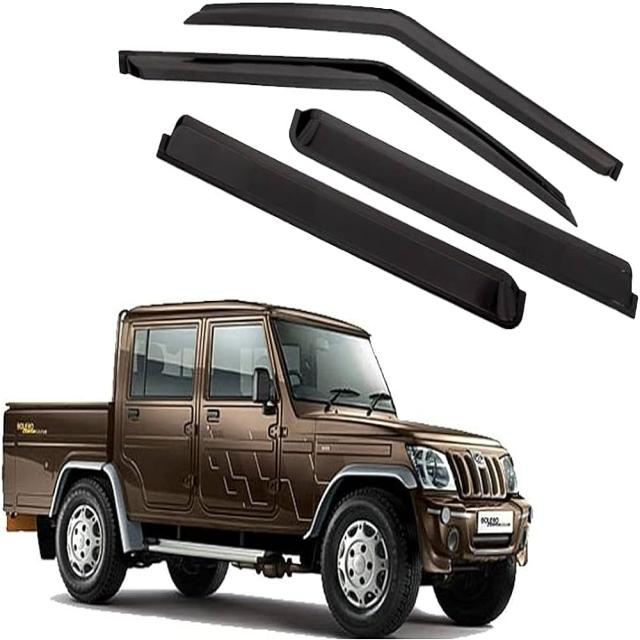light_vehicle: (0, 304, 532, 640)
